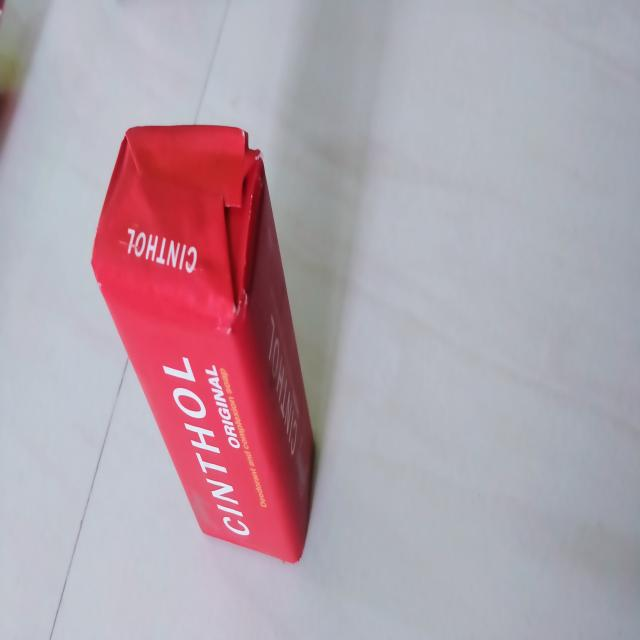soap: (89, 120, 317, 563)
